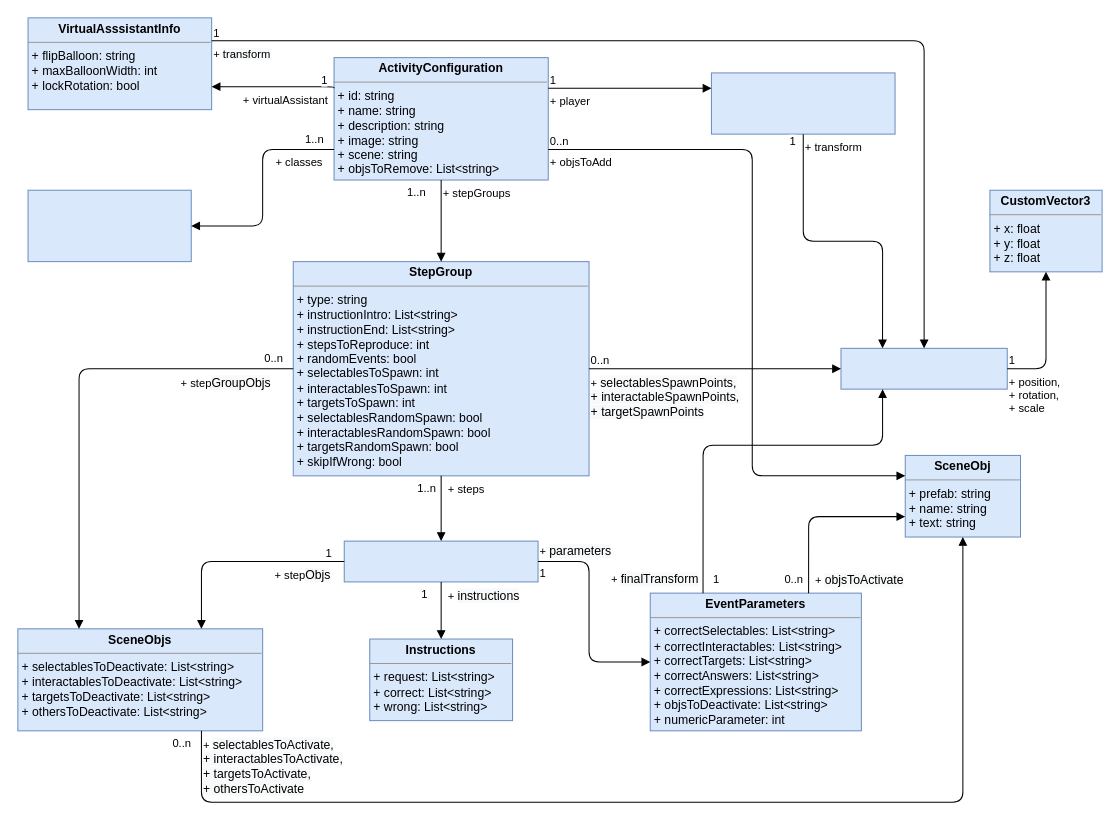
The diagram is 1120 pixels wide and 828 high, and some of its shapes have lost their labels. Each missing label, with the centre of its shape:
"CustomTransform" goes at (x=923, y=368).
"PlayerInfo + groundOffset: int" goes at (x=802, y=103).
"Step" goes at (x=440, y=561).
"UserClass + year: int + instituteType: string" goes at (x=109, y=225).
